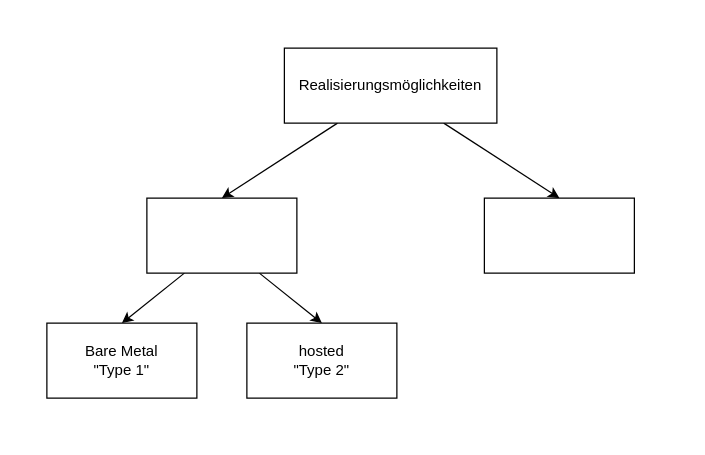
Image size: 705x455. Some labels were removed from this diagram. Each missing label, with the centre of its shape:
"Containerprinzip" goes at (558,235).
"Hypervisorprinzip" goes at (221,235).
